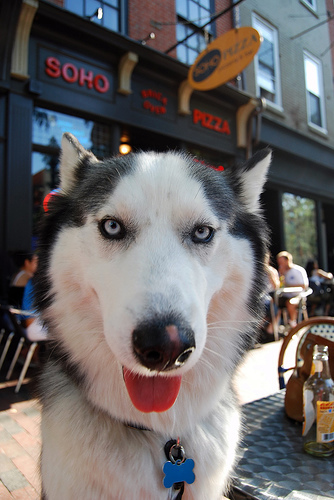dog: (33, 130, 273, 498)
